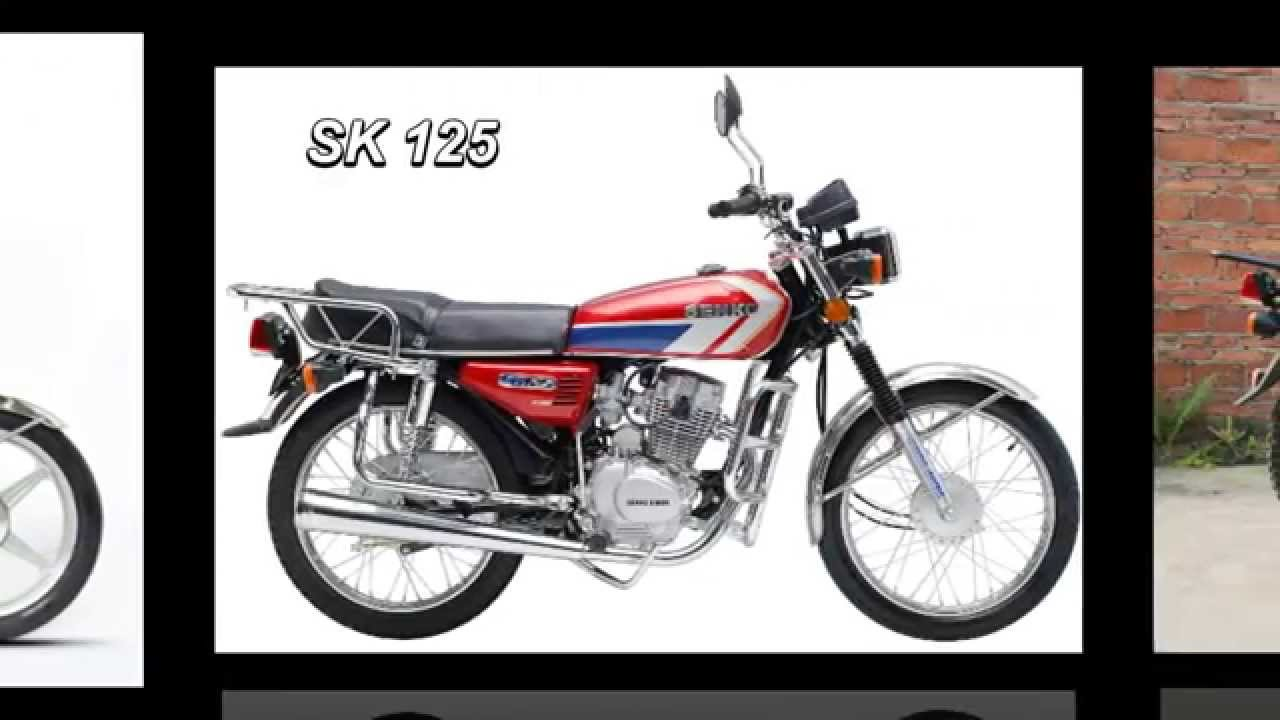motorbike: (225, 200, 1089, 648)
